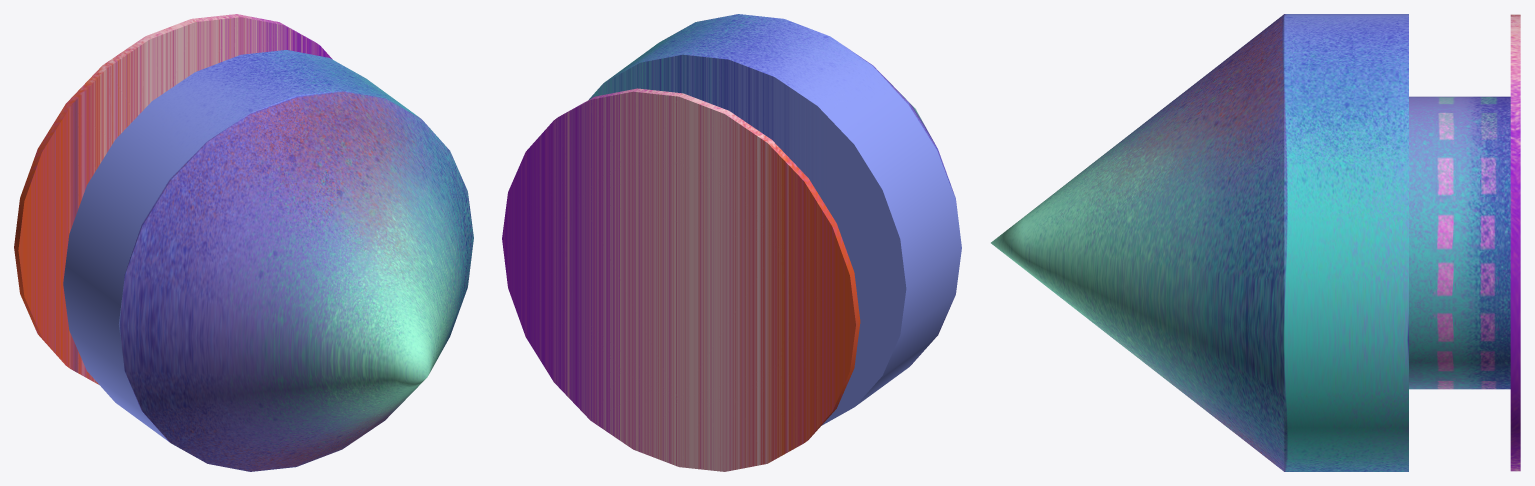
The model's file is UFO_all.obj.
3 renders of one model, left to right at view 1: azimuth 30°, elevation 25°; view 2: azimuth 150°, elevation 25°; view 3: azimuth 270°, elevation 25°, orthographic. The views are drawn at different scales.
Parts seen in each view (by area): view 1: UFO_Bmain; view 2: UFO_Bmain; view 3: UFO_Bmain.
Boxes of the visible parts, bbox=[...] form: UFO_Bmain: bbox=[14, 14, 473, 471]; UFO_Bmain: bbox=[502, 14, 961, 471]; UFO_Bmain: bbox=[991, 14, 1520, 471].
Size of the model in its own units: 0.5533 by 0.5532 by 0.6381.
Materials: 1 (1 with a texture image).
